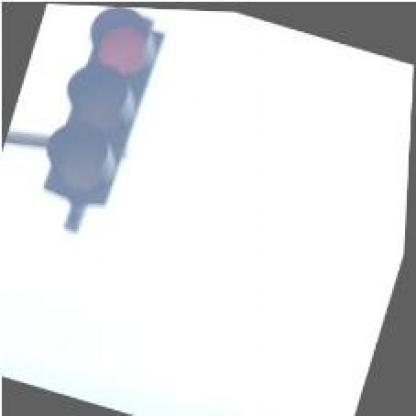red: (37, 2, 168, 211)
